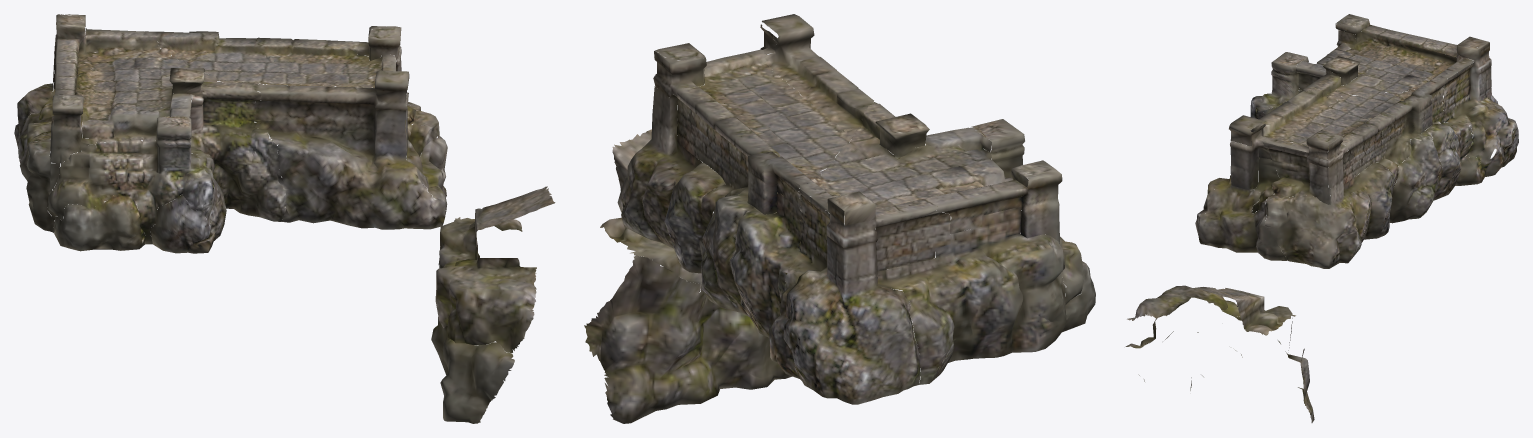
File: CornerRetainingTerrace.glb
The picture shows the model from 3 angles, left to right: view 1: azimuth 30°, elevation 25°; view 2: azimuth 150°, elevation 25°; view 3: azimuth 270°, elevation 25°; orthographic projection. The views are drawn at different scales.
Parts seen in each view (by area): view 1: Eldoria_MultiPiece_Group_02; view 2: Eldoria_MultiPiece_Group_02; view 3: Eldoria_MultiPiece_Group_02.
Part boxes in pixels (x1=…): Eldoria_MultiPiece_Group_02: x1=14, y1=14, x2=555, y2=423; Eldoria_MultiPiece_Group_02: x1=584, y1=14, x2=1095, y2=423; Eldoria_MultiPiece_Group_02: x1=1125, y1=14, x2=1518, y2=422.
Size of the model in its own units: 0.3649 by 0.251 by 0.3397.
Materials: 1 (1 with a texture image).
